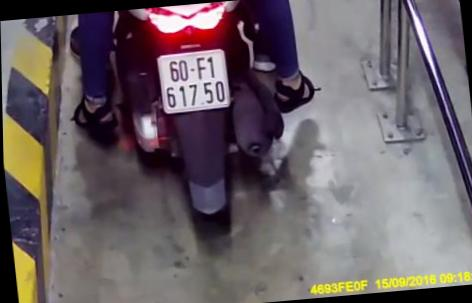LP: (156, 49, 232, 114)
